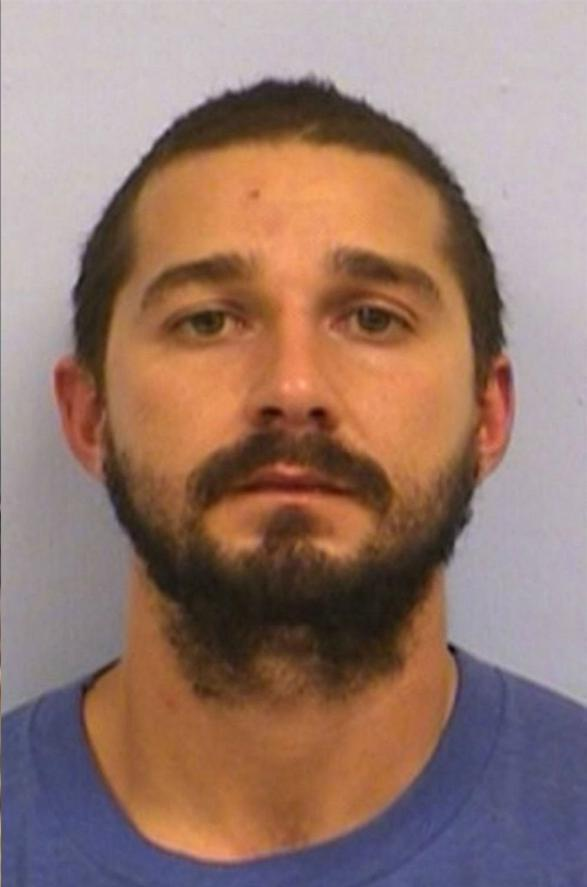Drunk: (129, 166, 479, 580)
